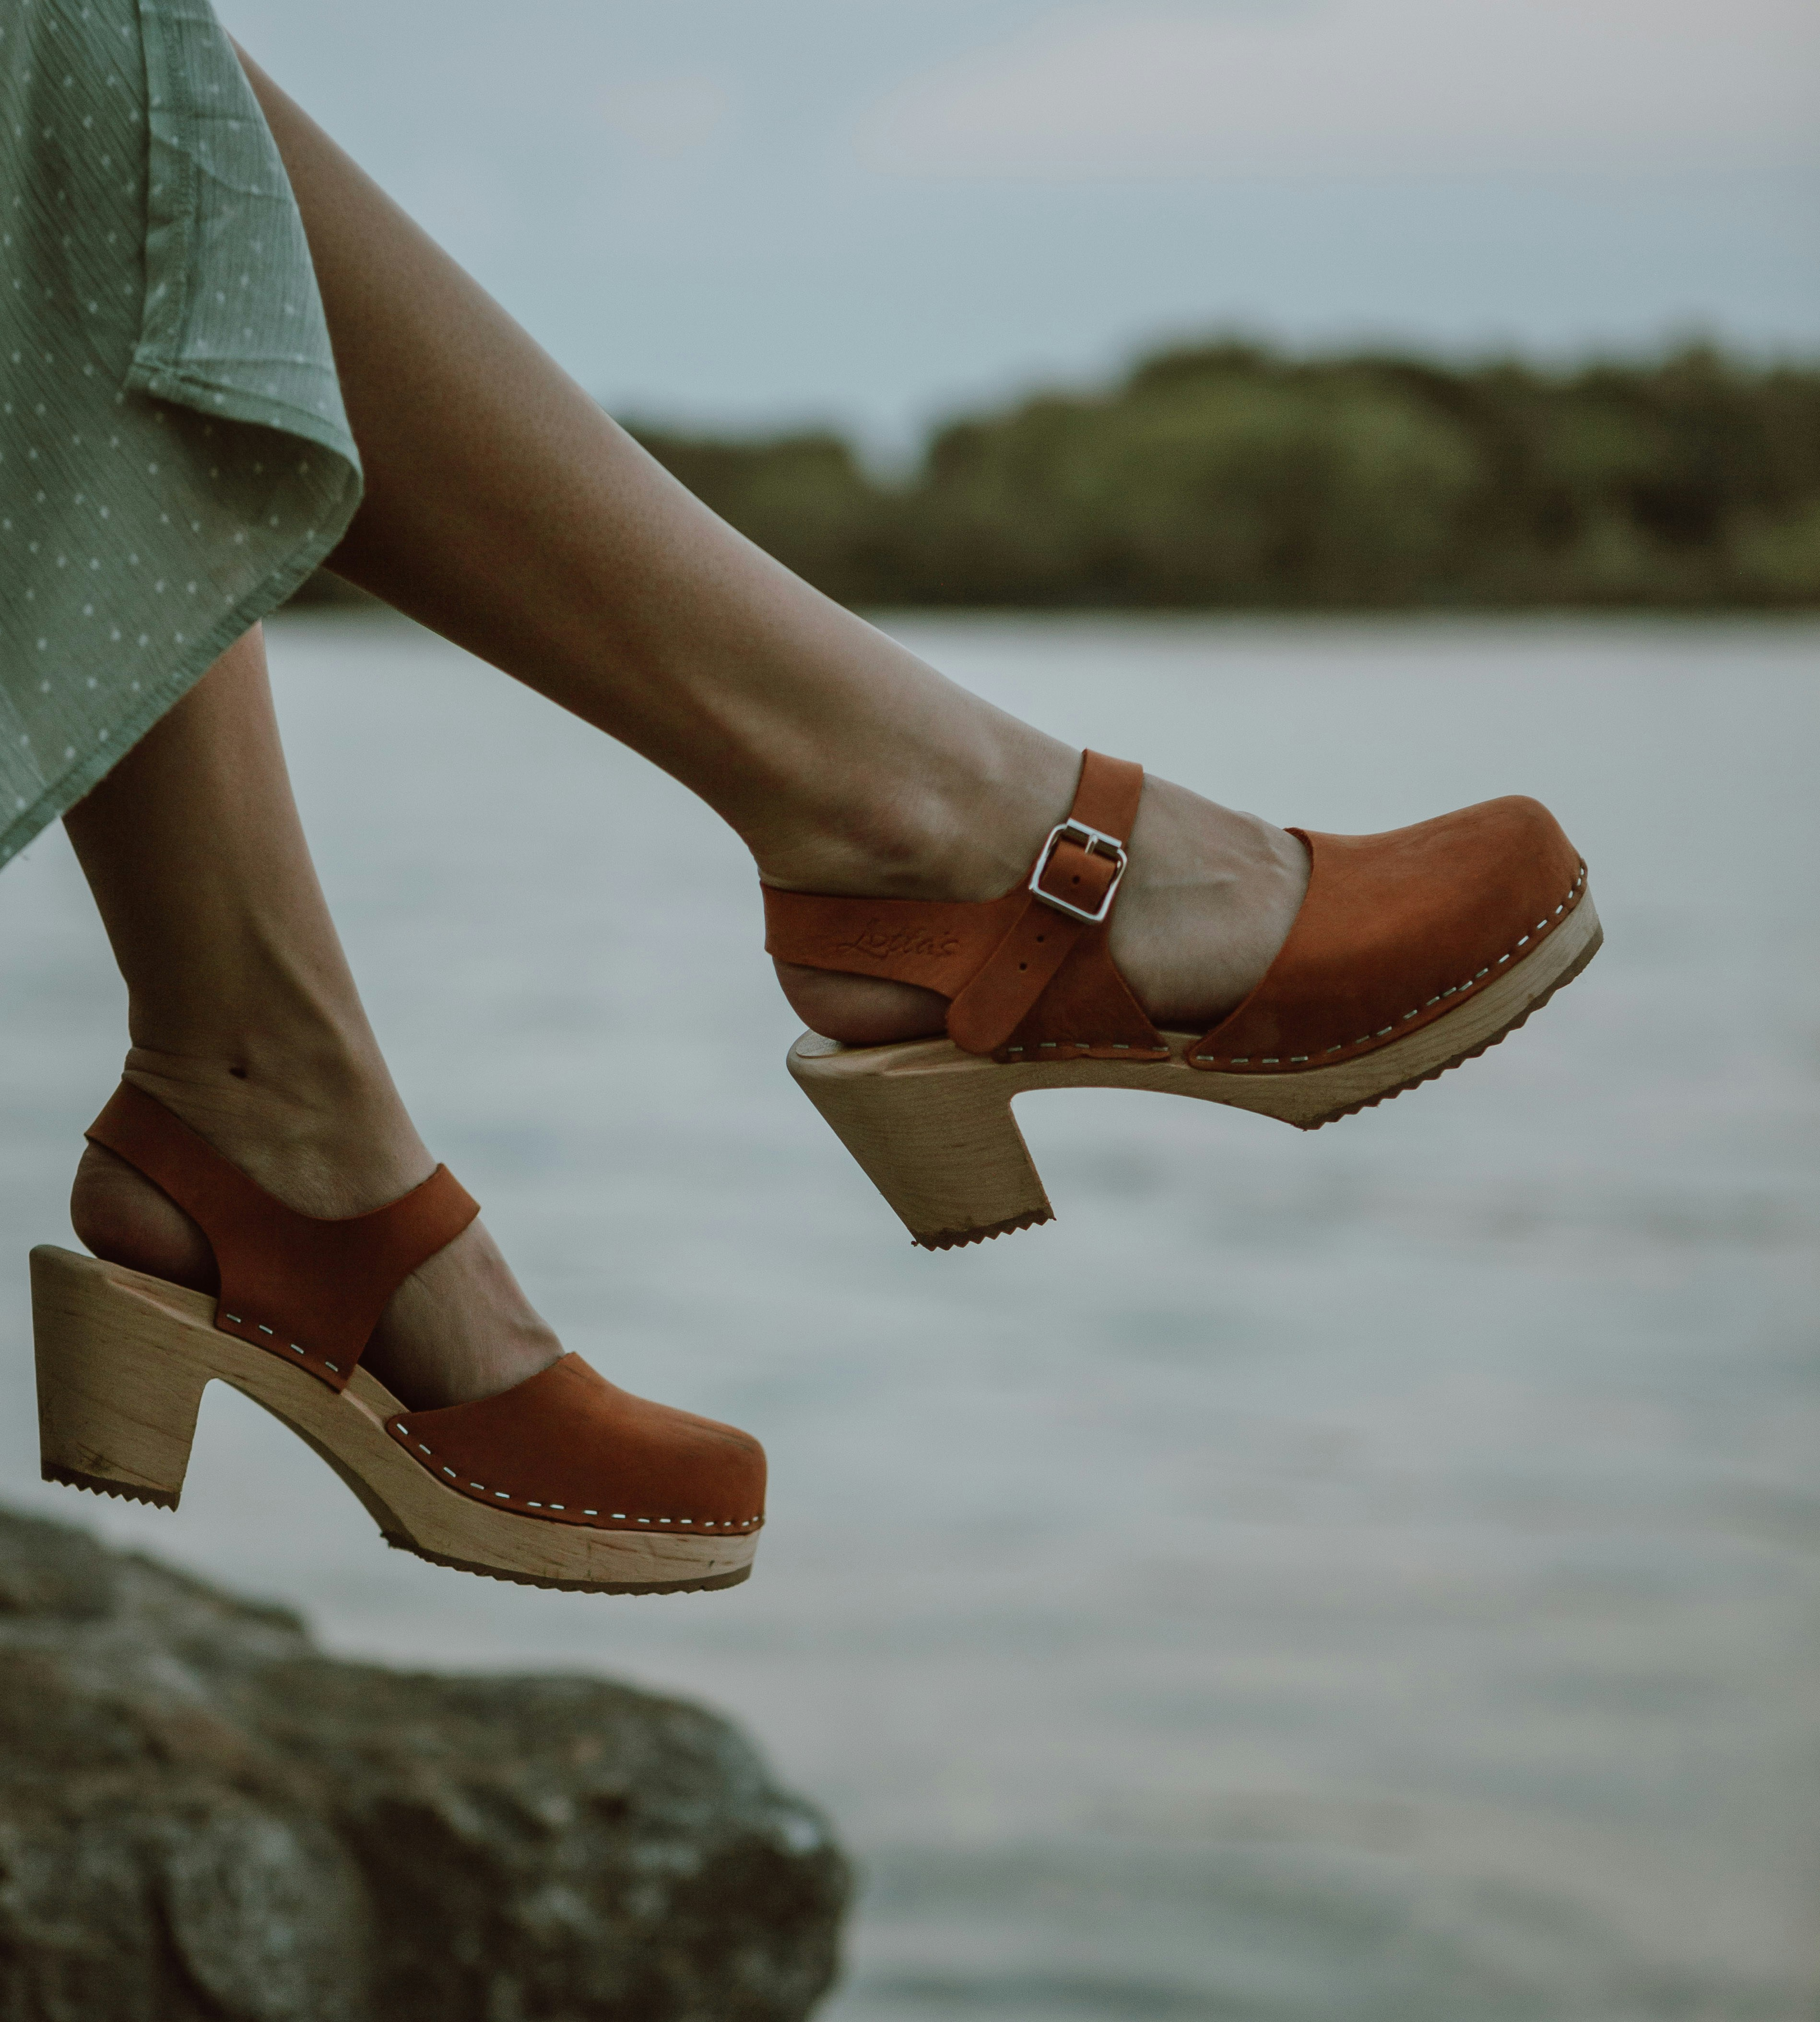Footwear: (710, 729, 1611, 1242), (23, 1072, 789, 1621)
